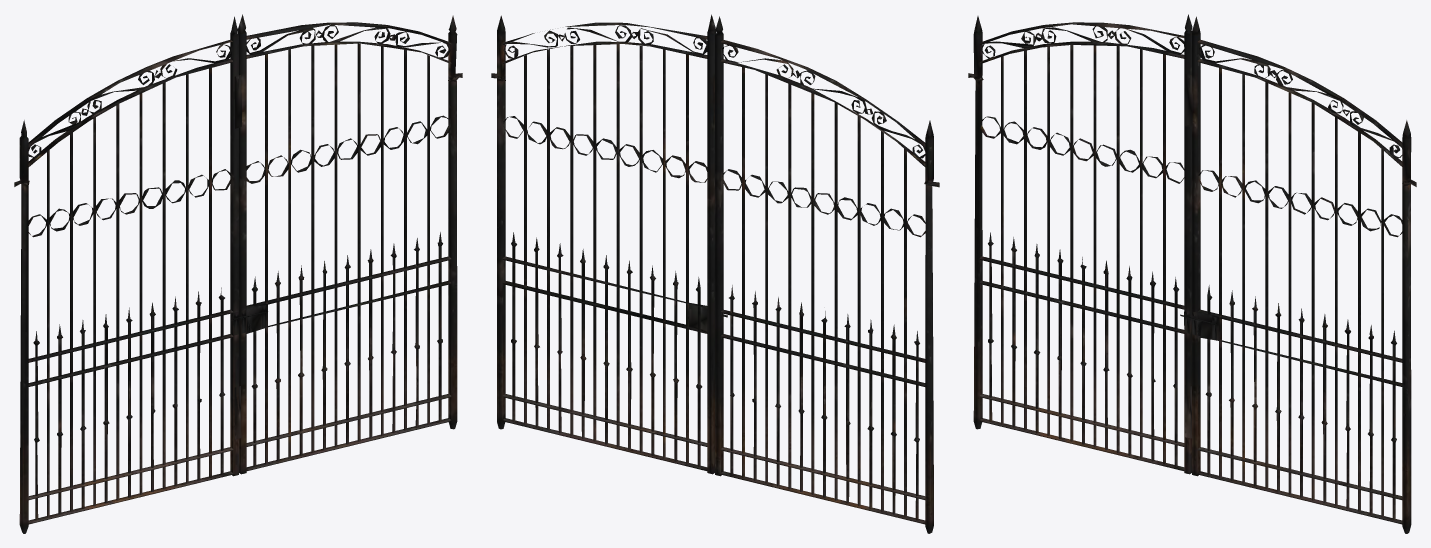
The model's file is iron_gate.glb.
The picture shows the model from 3 angles, left to right: view 1: azimuth 30°, elevation 25°; view 2: azimuth 150°, elevation 25°; view 3: azimuth 330°, elevation 25°; orthographic projection.
Parts seen in each view (by area): view 1: large_iron_gate_right_door; view 2: large_iron_gate_right_door; view 3: large_iron_gate_right_door.
Part boxes in pixels (box(x1,y1,x2,y2)): large_iron_gate_right_door: box(14, 14, 462, 533); large_iron_gate_right_door: box(491, 14, 939, 533); large_iron_gate_right_door: box(968, 14, 1416, 533).
Bounding box in the file's own units: 2.95 × 2.93 × 0.0895.
1 material, 1 textured.
